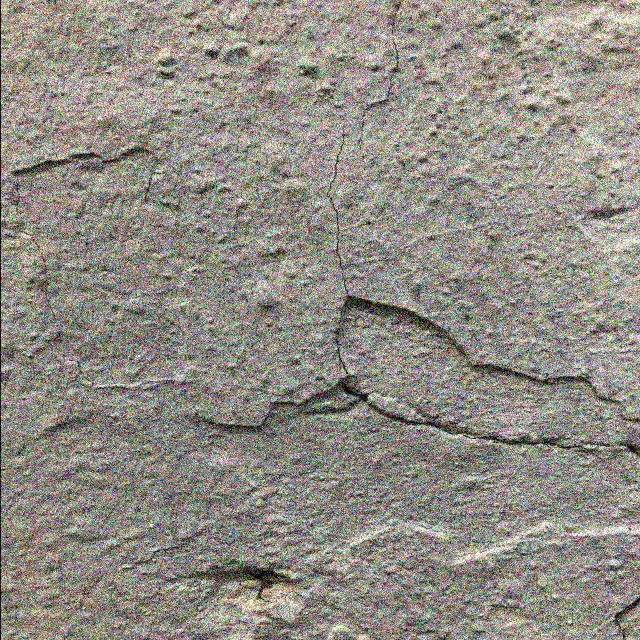SurfaceCrack: (323, 240, 639, 493)
